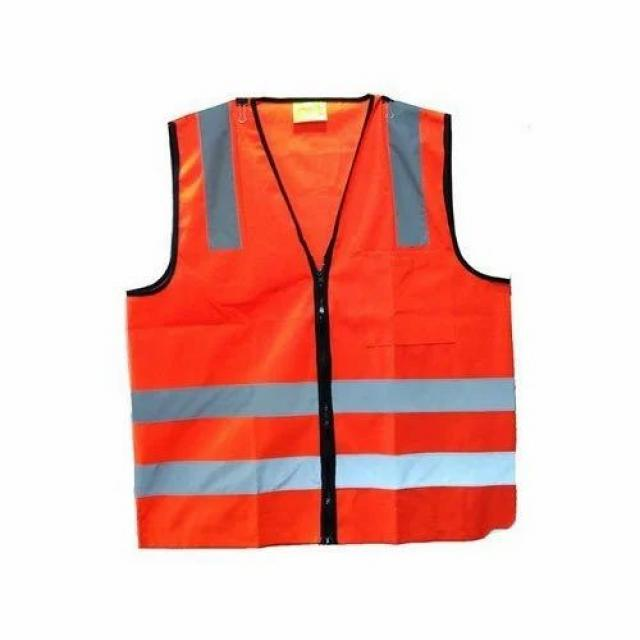Reflective-Jacket: (77, 39, 549, 578)
